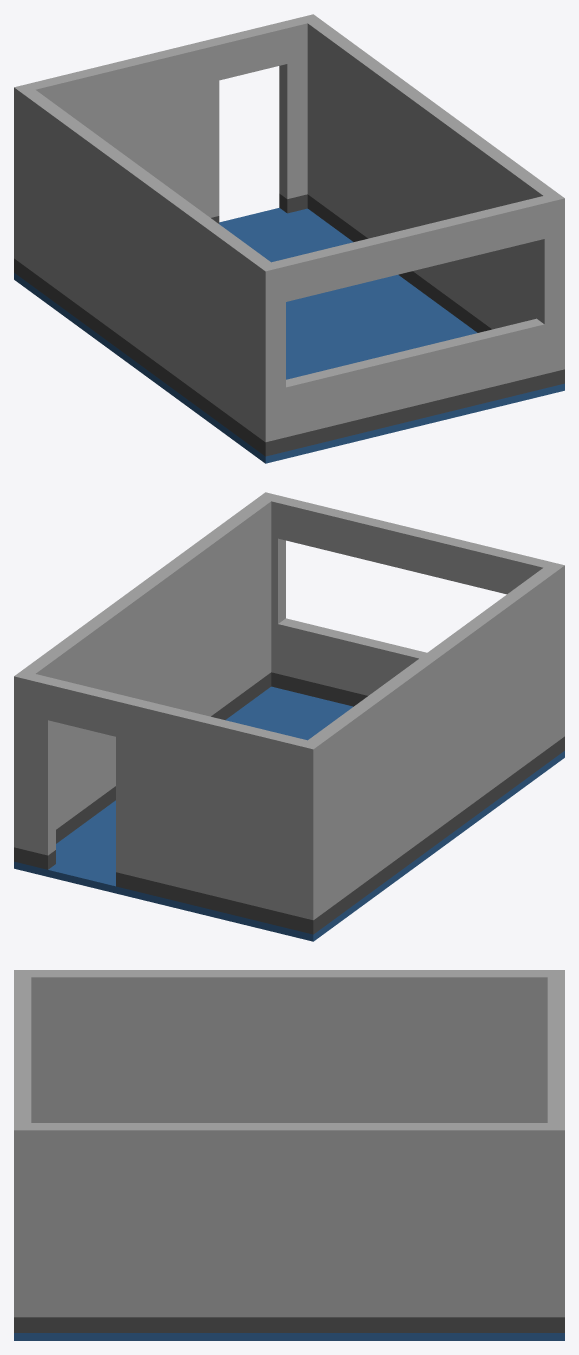
Rendered from room.obj.
The picture shows the model from 3 angles, top to bottom: view 1: azimuth 30°, elevation 25°; view 2: azimuth 150°, elevation 25°; view 3: azimuth 270°, elevation 25°; orthographic projection. The views are drawn at different scales.
Bounding box in the file's own units: 44 × 27 × 64.
1 material, 1 textured.
